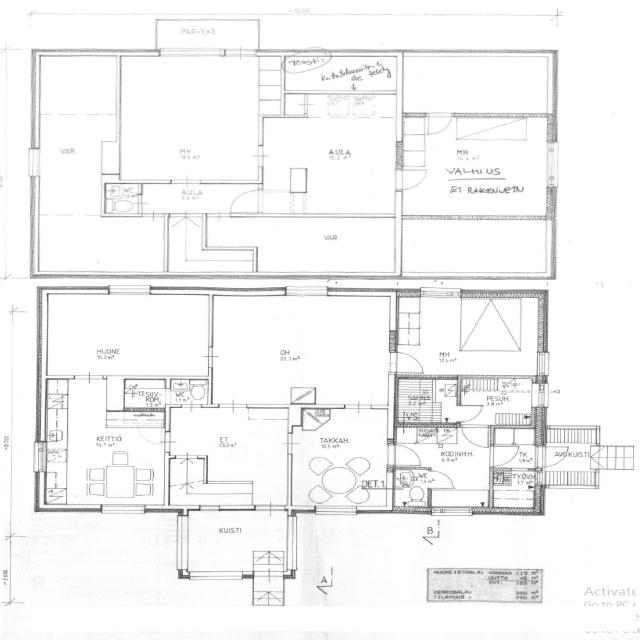door: (400, 54, 556, 116), (490, 431, 536, 472), (390, 348, 428, 376), (393, 165, 432, 192), (227, 187, 263, 216), (390, 442, 424, 468), (459, 423, 492, 449), (423, 111, 454, 138), (426, 468, 458, 492), (538, 444, 570, 468), (490, 444, 522, 467), (455, 402, 485, 423), (136, 425, 164, 445), (250, 492, 275, 511), (166, 212, 186, 228)
window: (153, 46, 232, 60), (543, 139, 563, 190), (173, 512, 190, 570), (186, 570, 247, 584), (282, 283, 334, 298), (105, 282, 154, 297), (24, 145, 44, 180), (31, 440, 49, 476), (98, 504, 148, 516), (419, 287, 464, 300), (430, 506, 476, 518), (533, 380, 550, 412), (535, 350, 552, 379), (545, 483, 599, 490), (196, 504, 223, 514)
zone: (116, 53, 275, 184), (210, 293, 394, 406), (399, 117, 555, 221), (42, 291, 212, 377), (34, 54, 120, 222), (262, 114, 401, 215), (41, 412, 166, 507), (168, 406, 294, 500), (399, 53, 556, 117), (396, 295, 545, 360), (401, 218, 553, 278), (303, 405, 386, 506), (182, 508, 289, 576), (406, 427, 493, 507), (281, 52, 399, 94), (459, 386, 542, 426), (394, 377, 460, 425), (426, 440, 467, 497), (491, 425, 539, 472), (456, 116, 530, 143), (110, 378, 167, 410), (538, 442, 590, 477), (393, 468, 431, 512), (490, 486, 540, 514), (103, 182, 141, 216), (168, 378, 211, 406), (169, 458, 207, 488)
